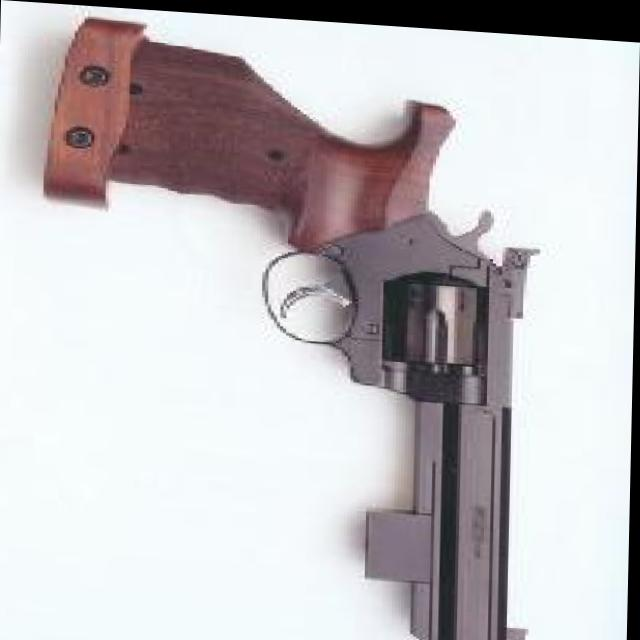handgun: (48, 7, 553, 640)
